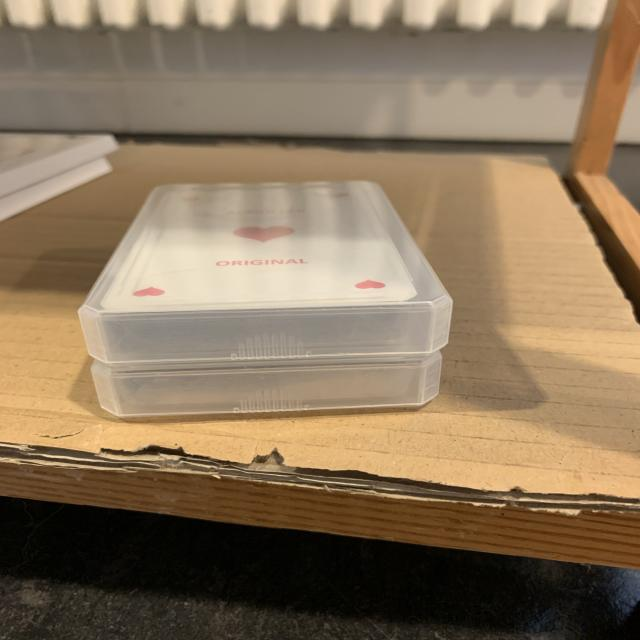Jasskarte: (81, 181, 452, 369), (92, 351, 441, 417)
